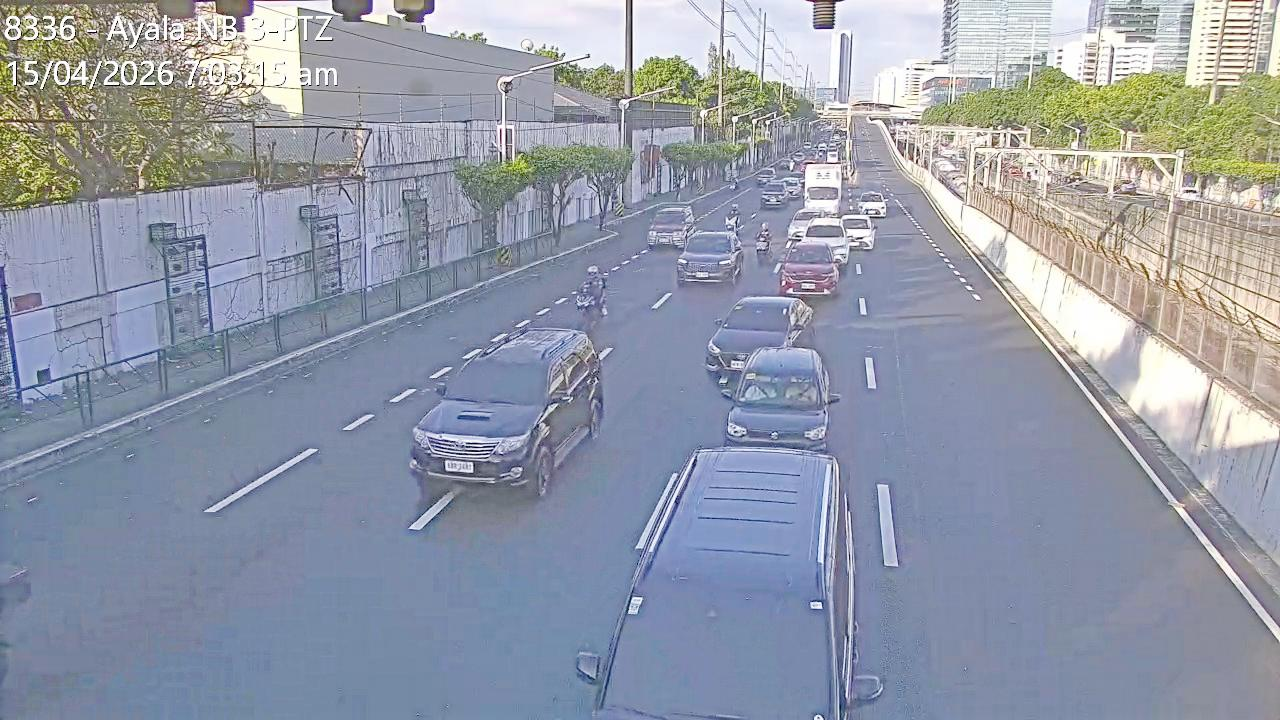Car: (580, 444, 873, 717), (409, 328, 603, 499), (722, 342, 838, 447), (705, 297, 812, 384), (675, 228, 745, 286), (777, 237, 843, 296), (799, 218, 851, 267), (646, 204, 696, 249), (786, 207, 834, 246), (838, 213, 876, 252), (758, 178, 792, 208), (856, 191, 888, 217), (781, 176, 802, 199), (755, 166, 779, 186)
Motor: (576, 266, 609, 331), (724, 204, 744, 243), (756, 224, 772, 261)
Not Accident: (412, 322, 604, 494), (699, 292, 841, 447), (661, 204, 744, 283), (796, 204, 856, 266), (783, 236, 841, 297), (574, 266, 612, 331)
